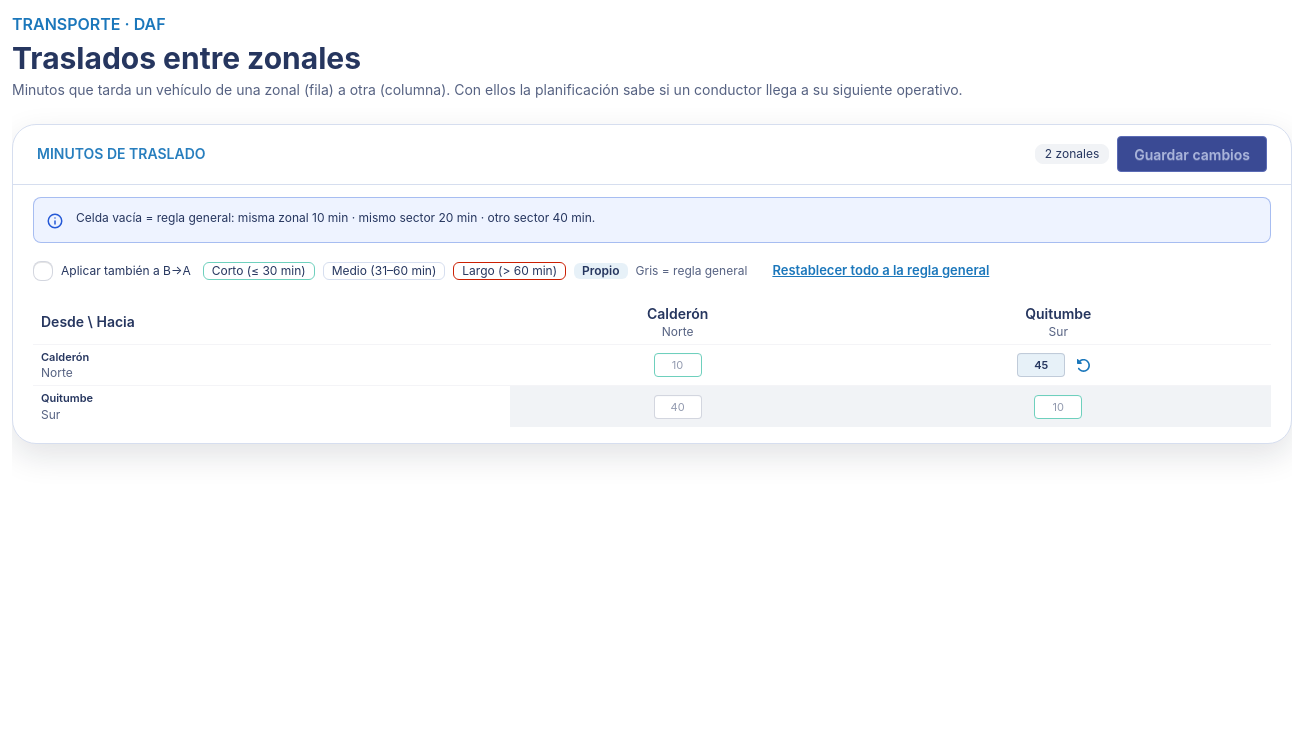
Test: Traslados entre zonales › fuera de 0–600 no deja guardar y lo dice
Expected: the text "misma zonal 10 min" is shown, x1=76 y1=210 x2=595 y2=225
In the 1st field with placeholder "10": (678, 365) x1=654 y1=353 x2=702 y2=377, type "601"
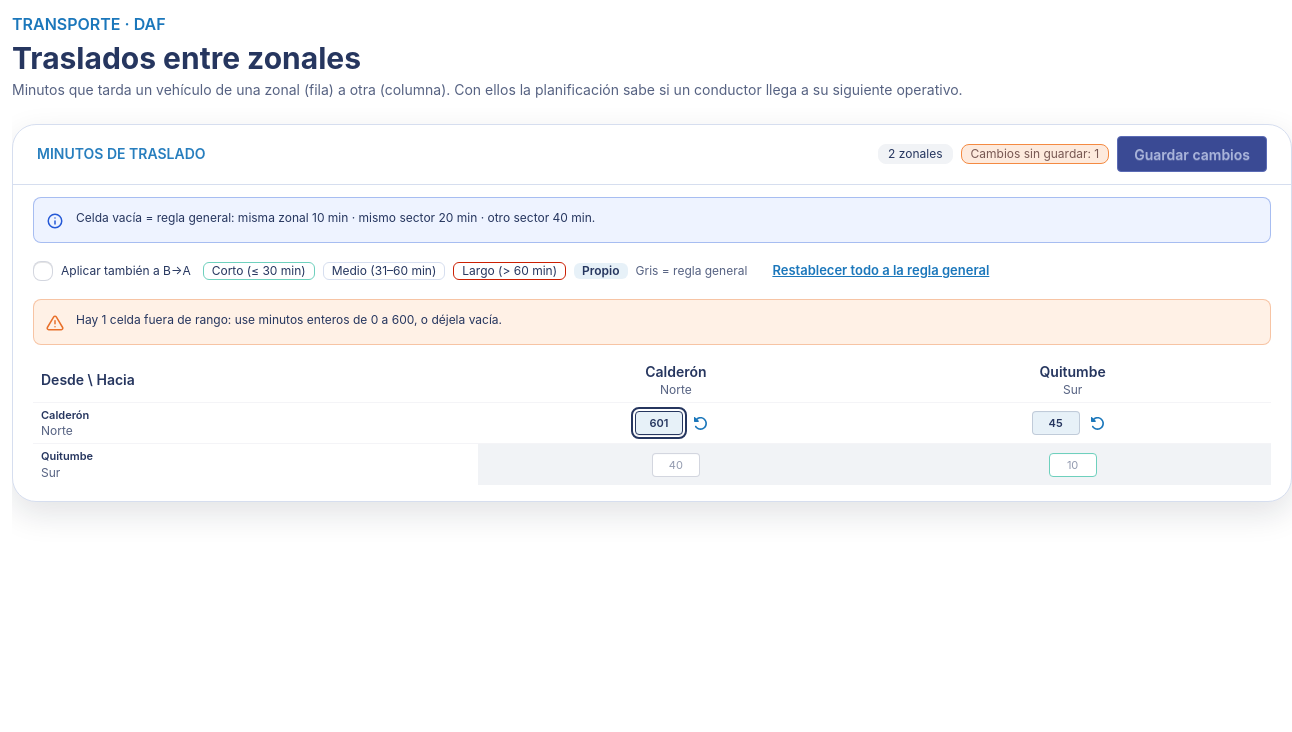
Now the text "Hay 1 celda fuera de rango" is shown, box x1=76 y1=312 x2=502 y2=327
